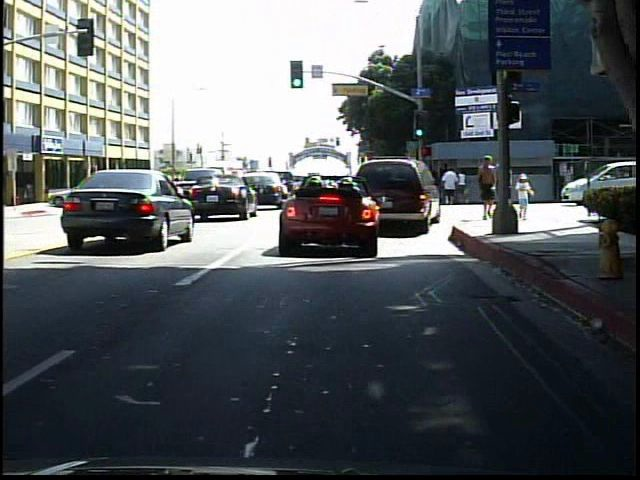person: (475, 153, 498, 224), (512, 173, 533, 220), (117, 173, 136, 204)
